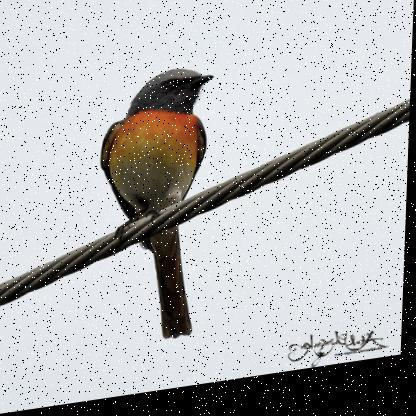Burung: (97, 70, 216, 354)
